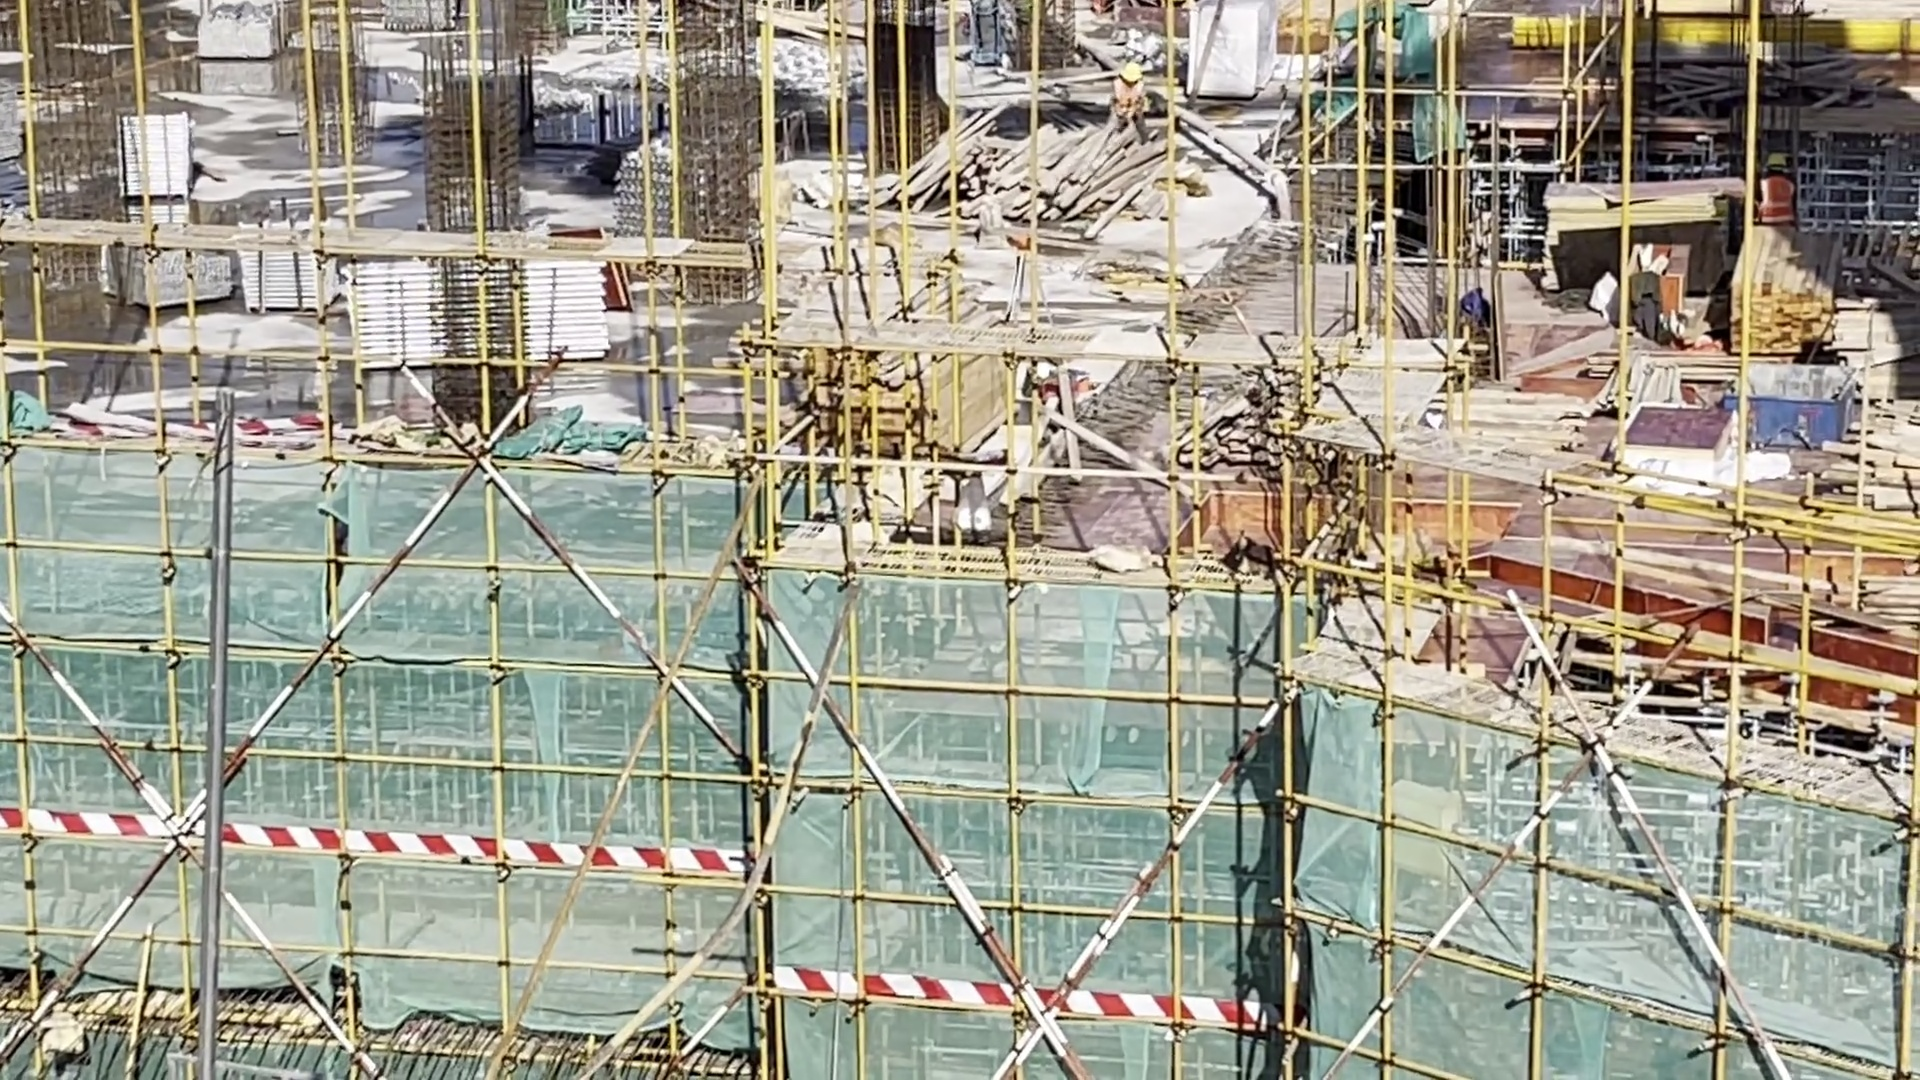helmet: (1027, 361, 1053, 389), (1116, 60, 1140, 85)
hopper: (1717, 352, 1849, 457)
person: (1105, 68, 1157, 143), (1027, 363, 1088, 421)
scaffold: (325, 253, 599, 374), (247, 216, 343, 297)
vest: (1113, 85, 1146, 125)
wood: (881, 118, 1121, 260), (800, 339, 1006, 470), (1728, 218, 1838, 381)
